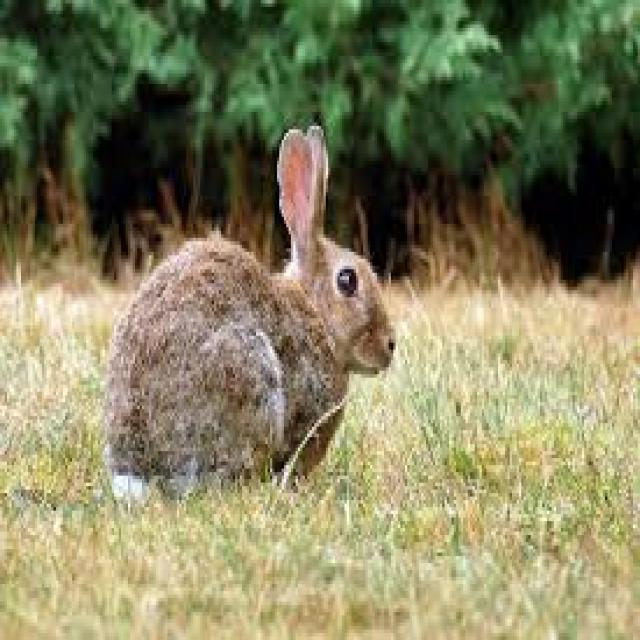Hare: (100, 114, 398, 496)
